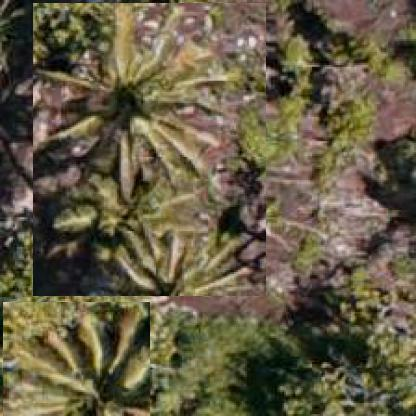coconut tree: (32, 2, 266, 296), (1, 301, 151, 415)
